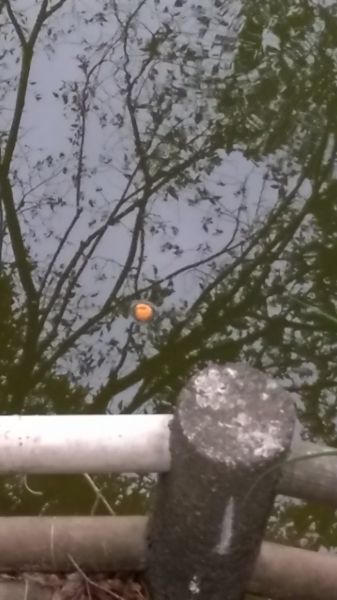eggs: (130, 299, 154, 321)
